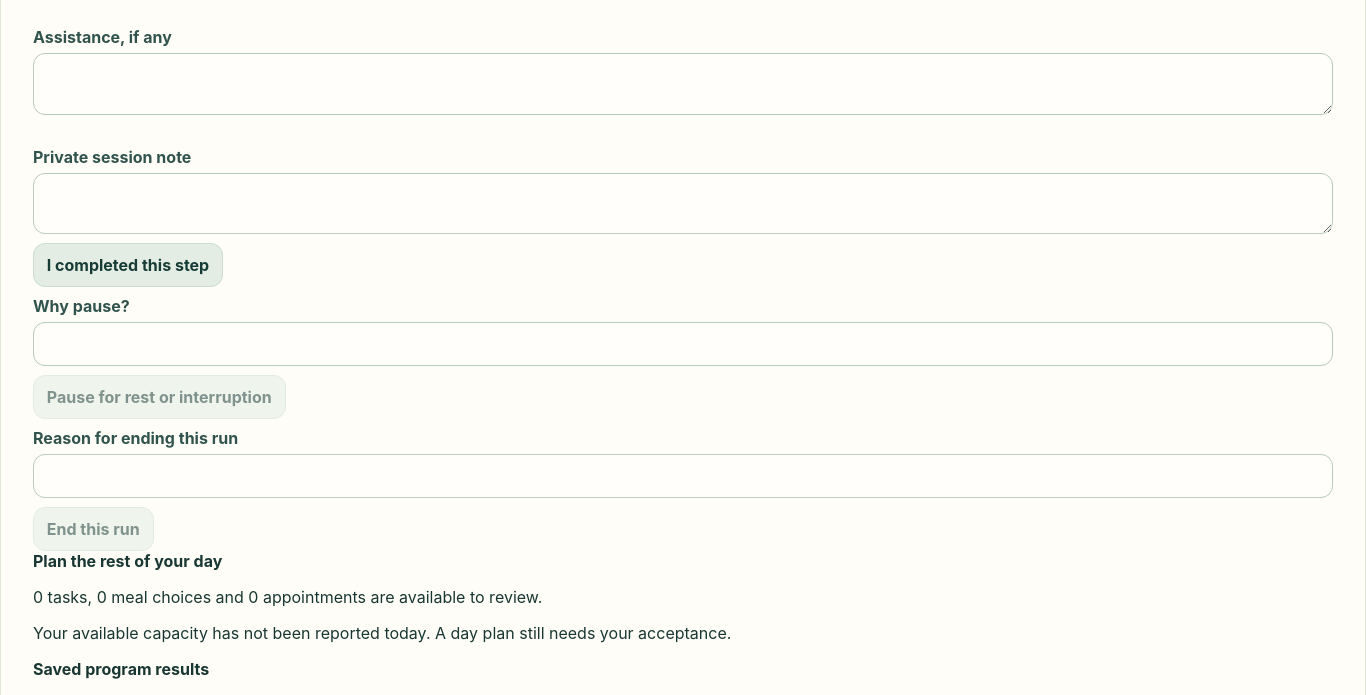
keeps pause and end reasons separate and clears rehab facts for the next saved step
(page scrolled)
Type "Need a rest" into the field labelled "Why pause?" at (683, 344), box [33,322,1333,366]
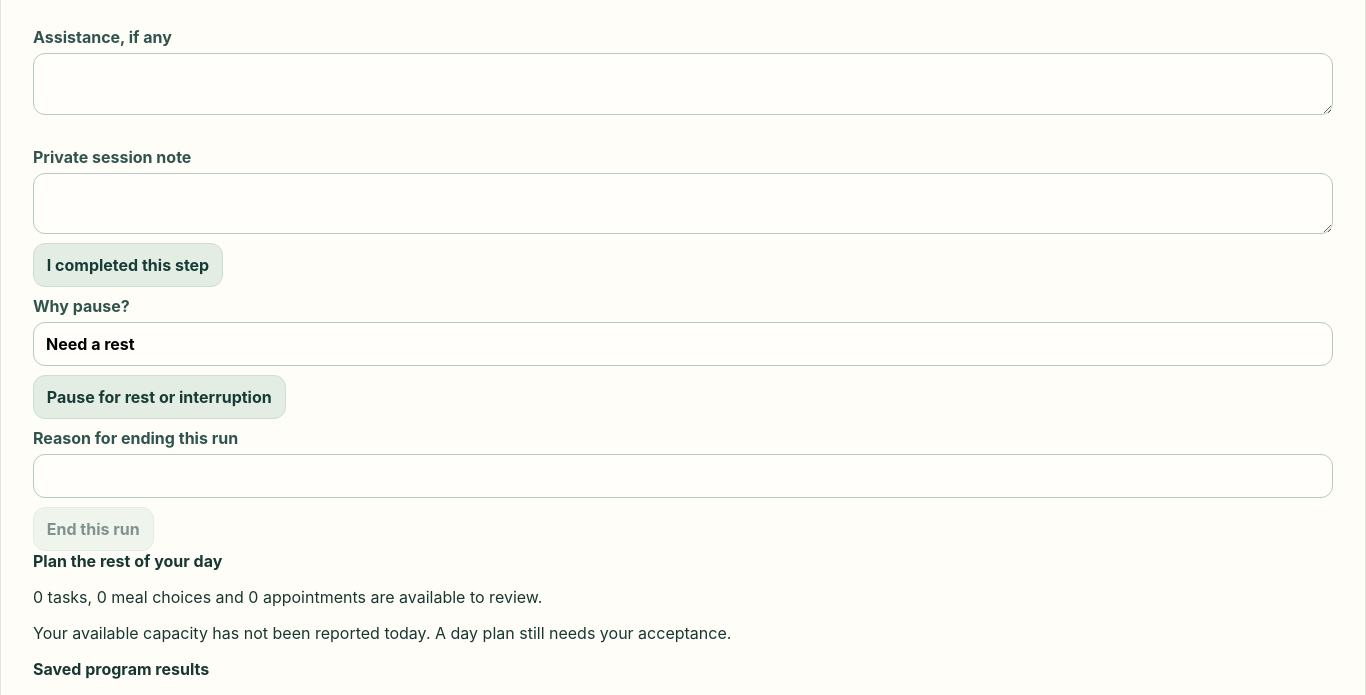
Expected: the button "End this run" is disabled, [33,507,154,551]
Type "End for today" into the field labelled "Reason for ending this run" at (683, 476), box [33,454,1333,498]
(page scrolled)
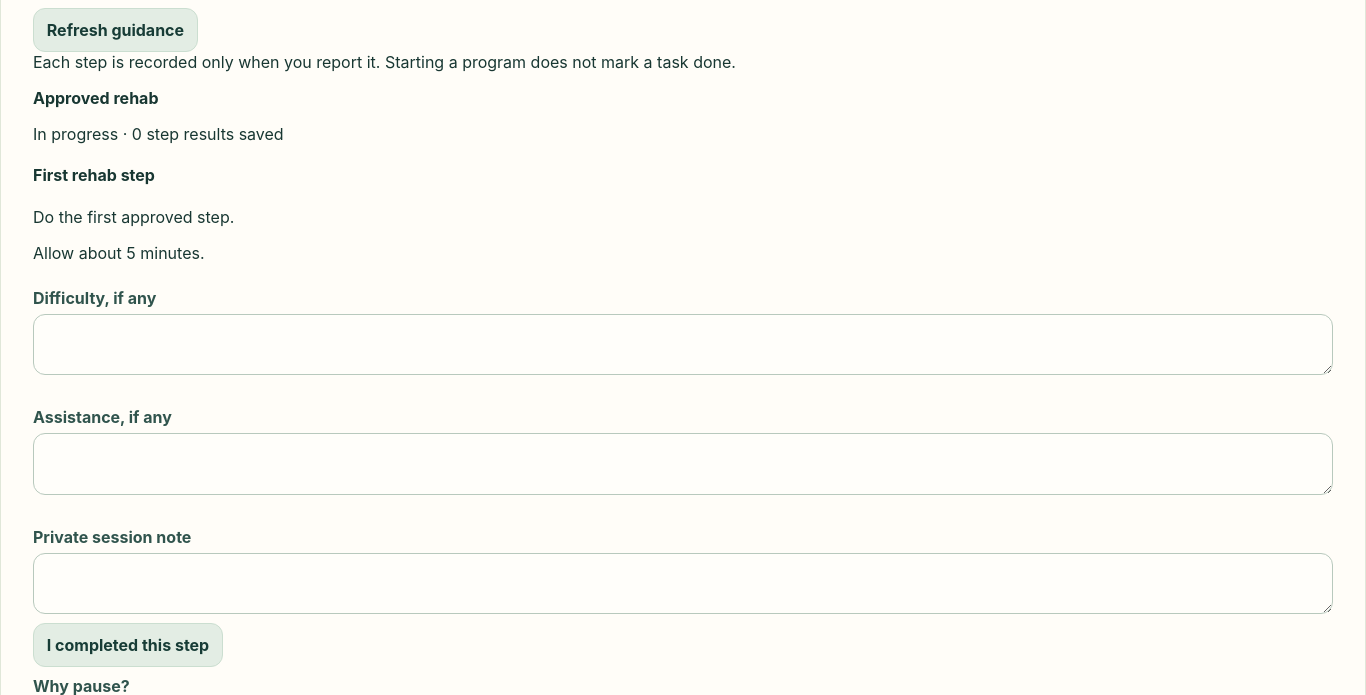
Type "First-step difficulty" into the text box labelled "Difficulty, if any" at (683, 344), box [33,314,1333,375]
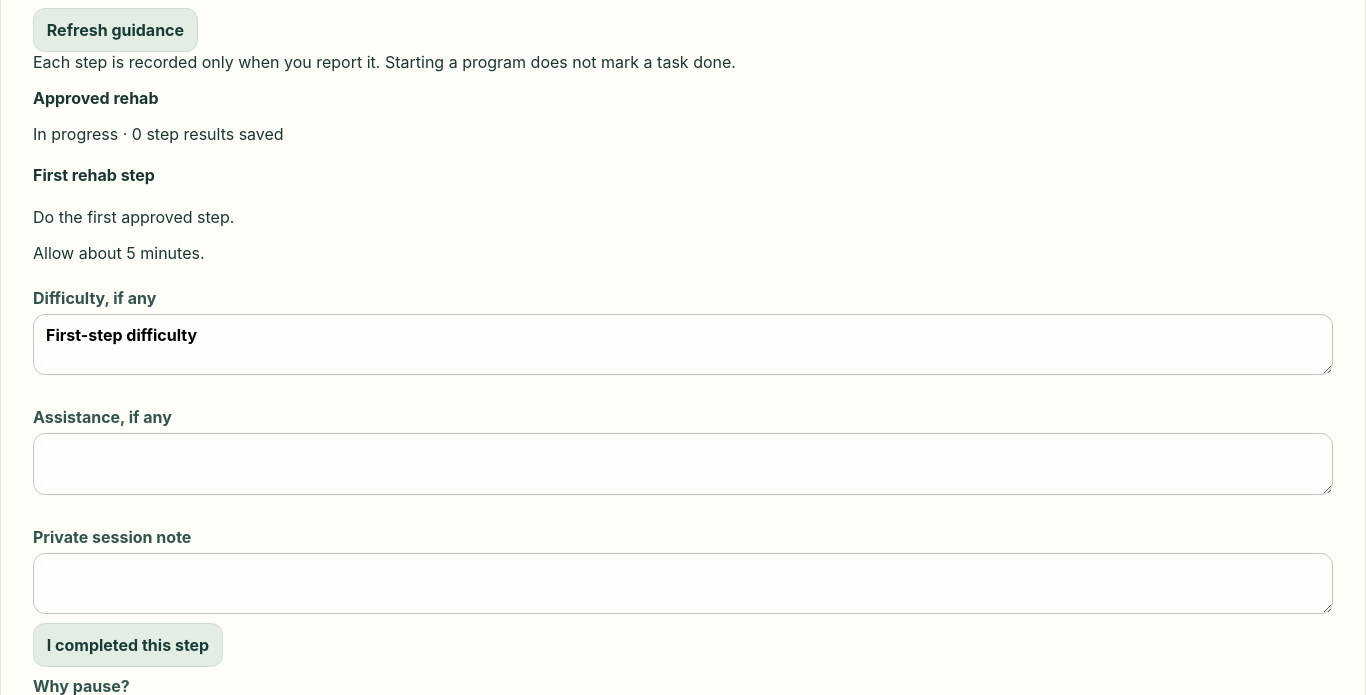
Type "First-step assistance" into the text box labelled "Assistance, if any" at (683, 464), box [33,434,1333,495]
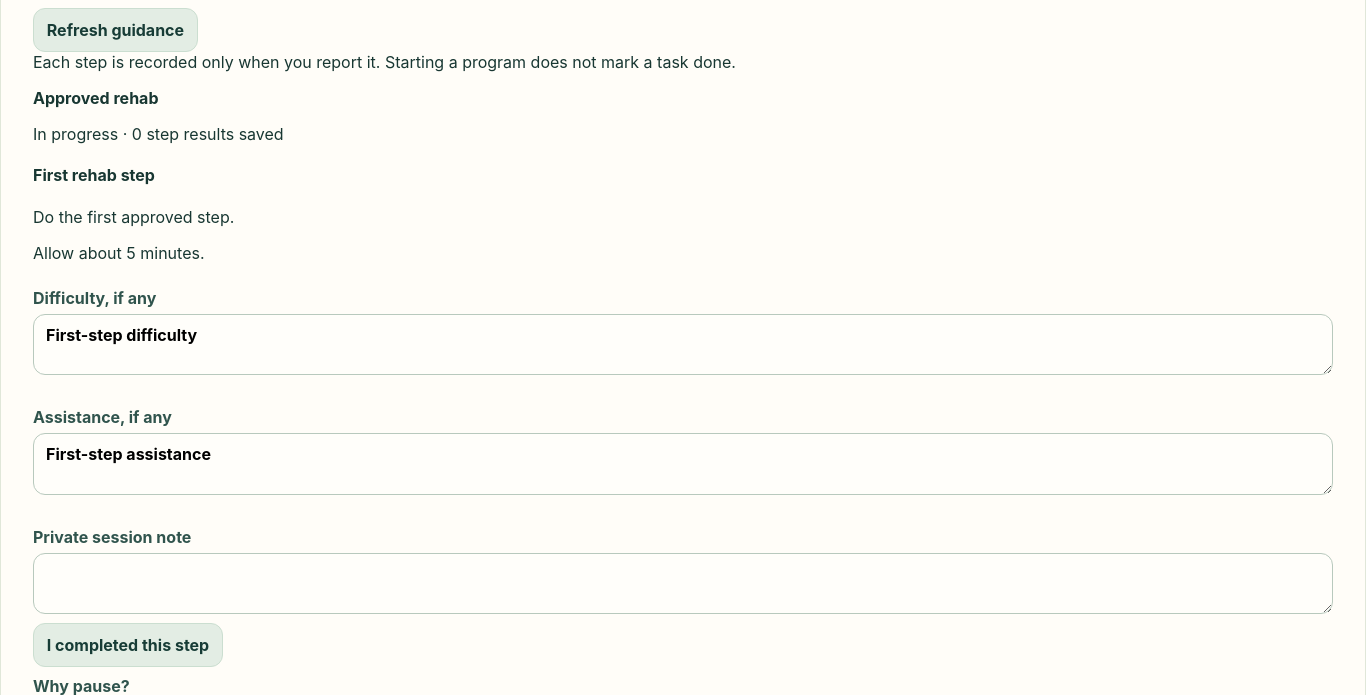
Type "Private first-step note" into the text box labelled "Private session note" at (683, 584), box [33,553,1333,614]
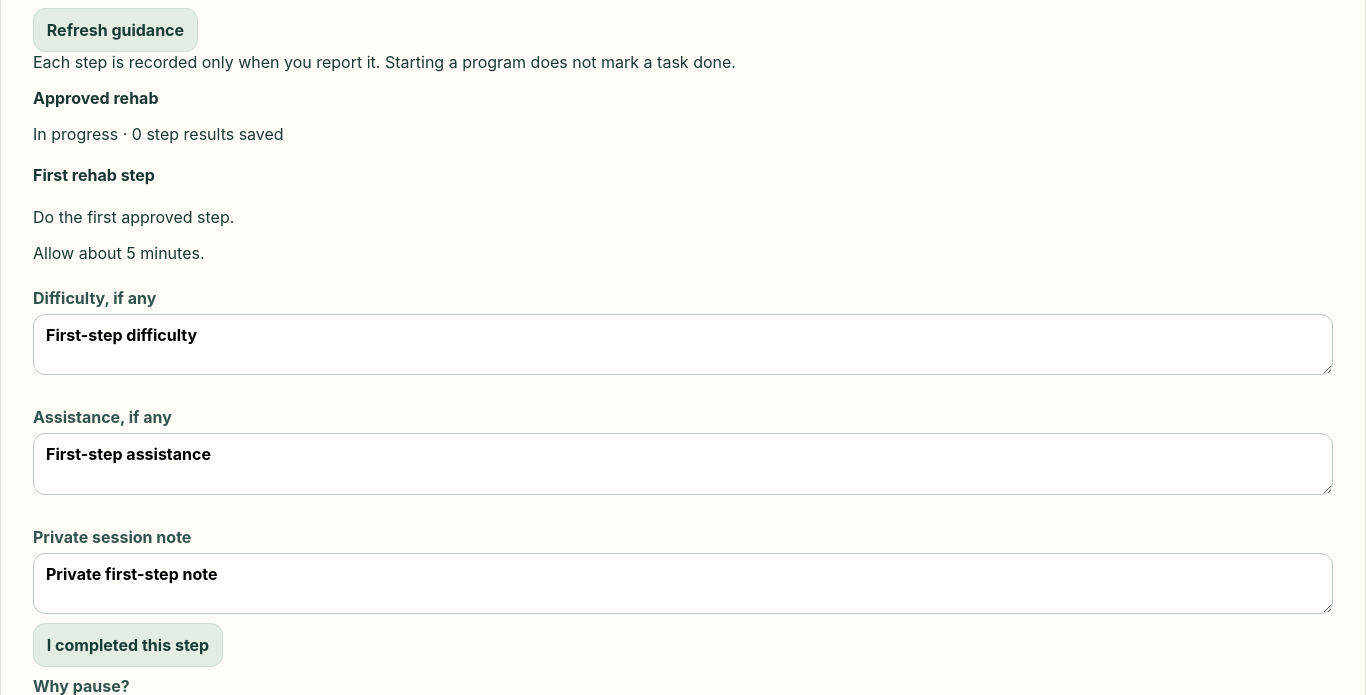
Click the button "I completed this step" at (128, 645), box [33,623,223,667]
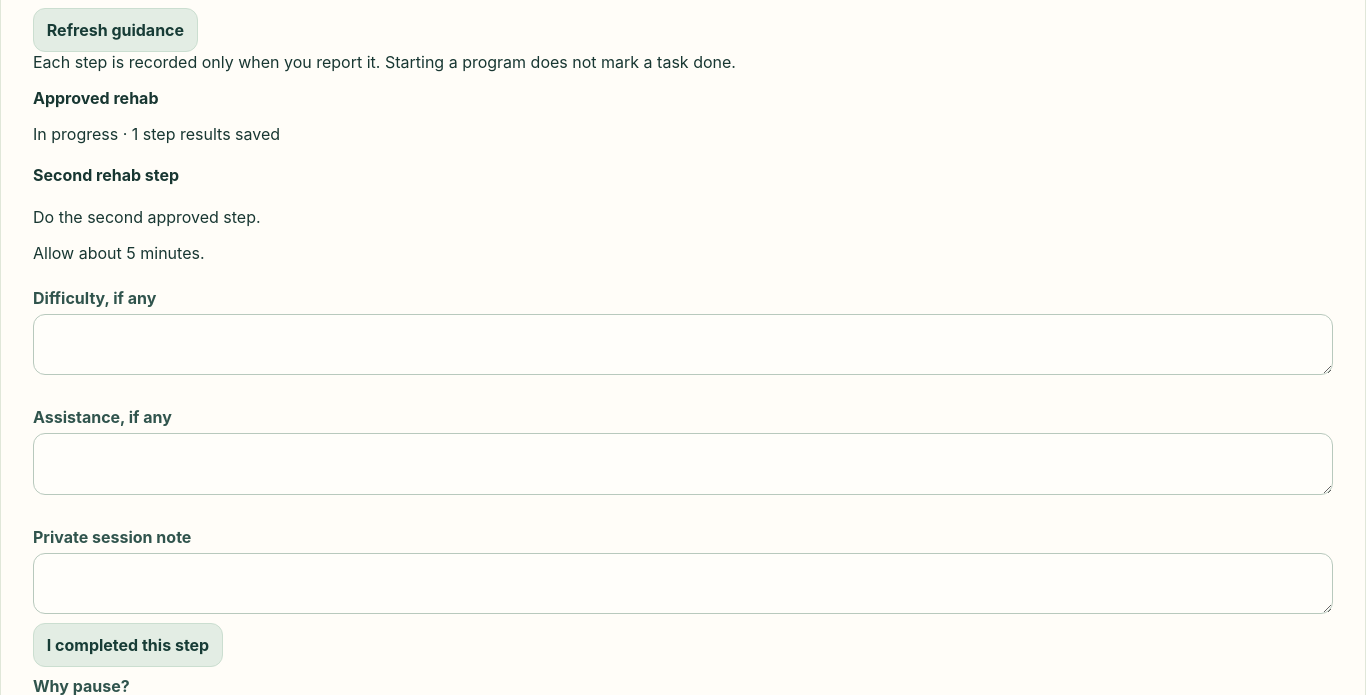
Expected: the text "Do the second approved step." is shown, [33,207,261,227]
Expected: the text box labelled "Difficulty, if any" is empty, [33,314,1333,375]
Expected: the text box labelled "Assistance, if any" is empty, [33,434,1333,495]
